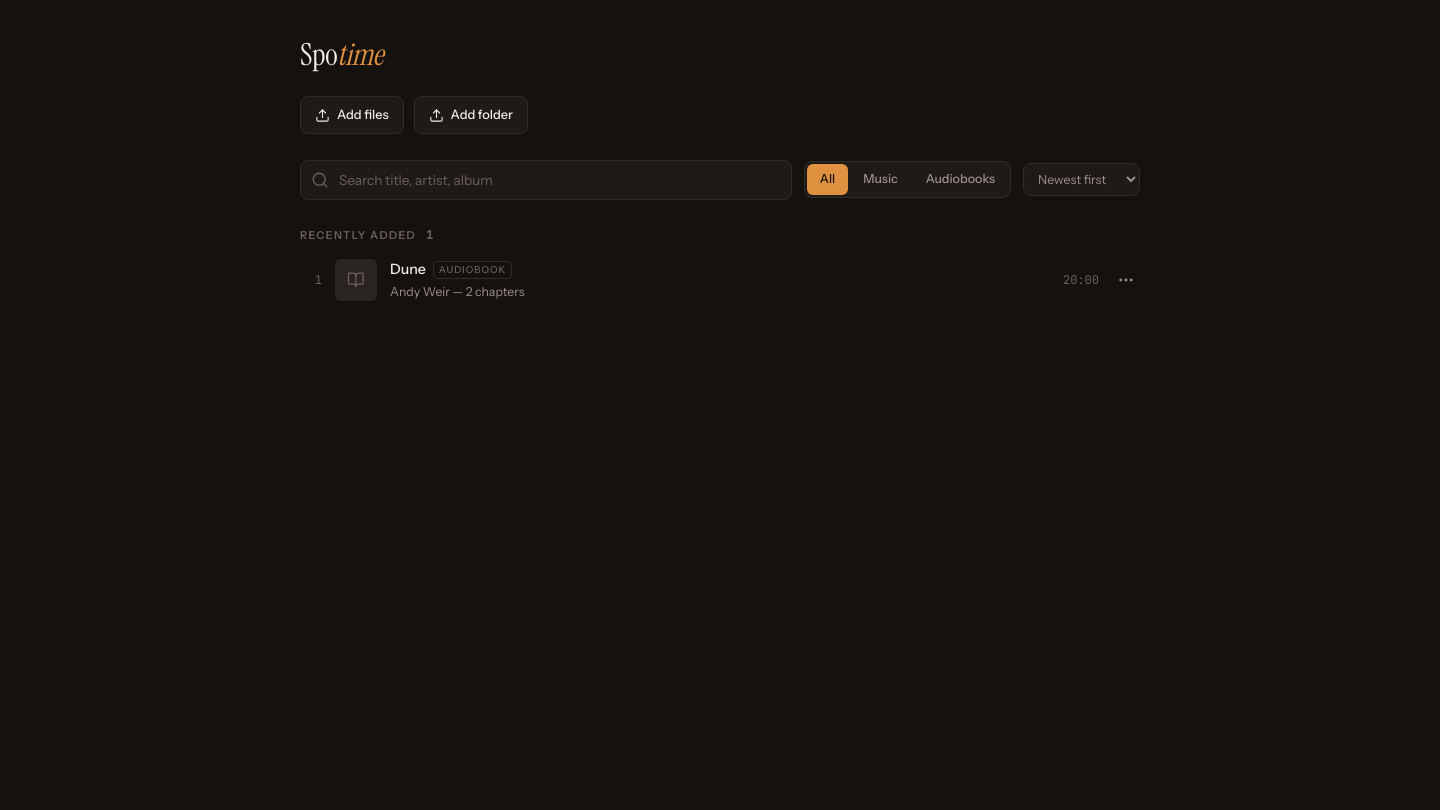
Test case: a book uploaded as a folder › names the book, with the chapter you are in
Click the button named "Play Dune" at (720, 280), box 290,251 -> 1150,309
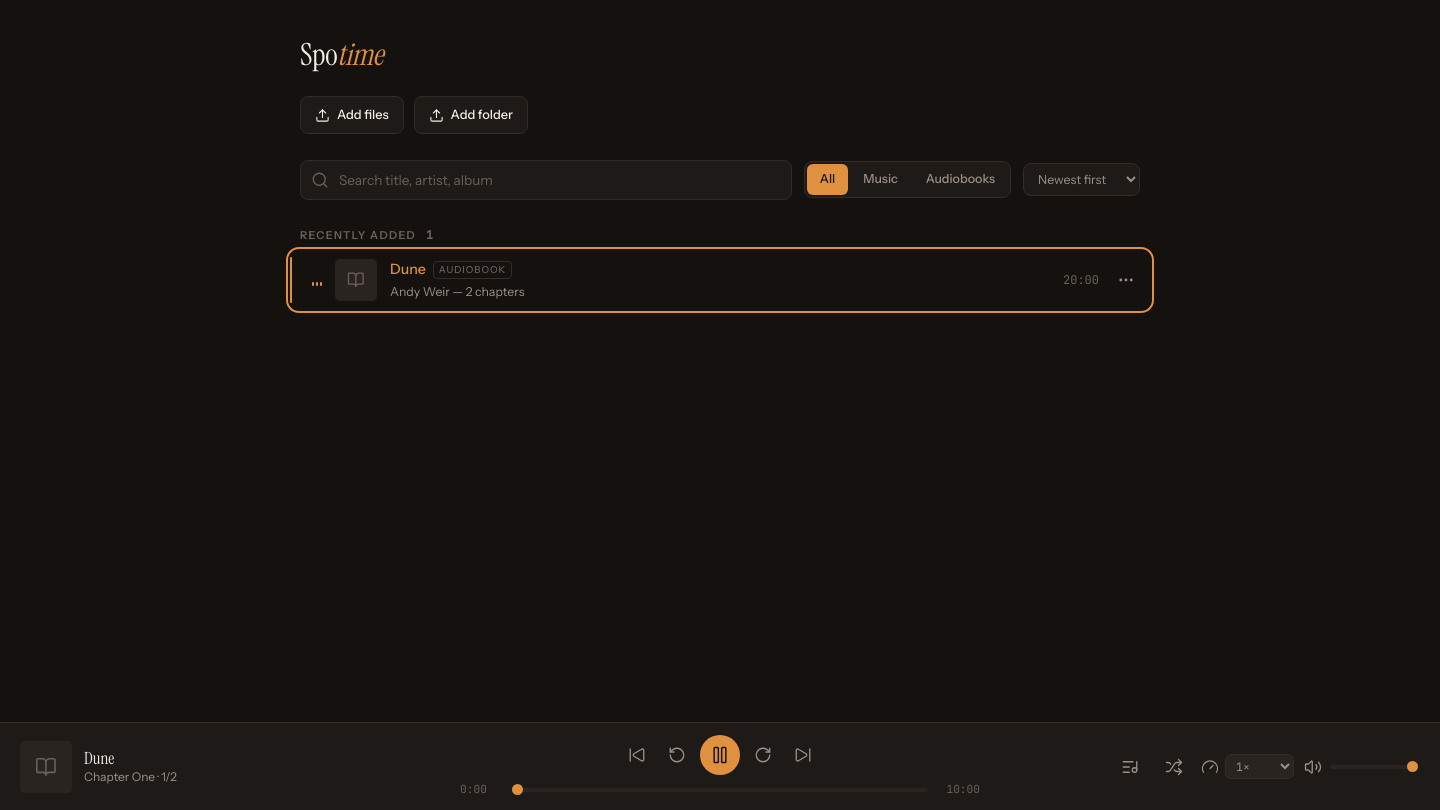
Now the text "Dune" is shown, box 84,746 -> 114,768
Now the text "Chapter One · 1/2" is shown, box 84,768 -> 177,786
